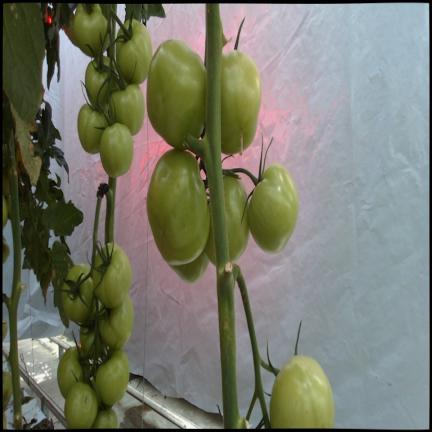6kp_peduncle: (215, 238, 258, 348), (94, 177, 116, 236)
MainStem: (205, 4, 241, 431), (7, 137, 23, 431), (106, 179, 116, 242)
tomato: (147, 149, 209, 265), (147, 39, 206, 148), (270, 355, 334, 428), (248, 162, 298, 253), (221, 50, 261, 154), (205, 175, 249, 265), (93, 242, 132, 308), (116, 19, 152, 83), (95, 349, 129, 406), (99, 294, 134, 348), (99, 122, 133, 177), (73, 4, 108, 57), (62, 264, 93, 322), (57, 346, 91, 398), (111, 84, 144, 134), (77, 104, 108, 153), (64, 382, 97, 428), (170, 250, 209, 282), (85, 56, 108, 102), (80, 319, 106, 358), (92, 408, 117, 428)
